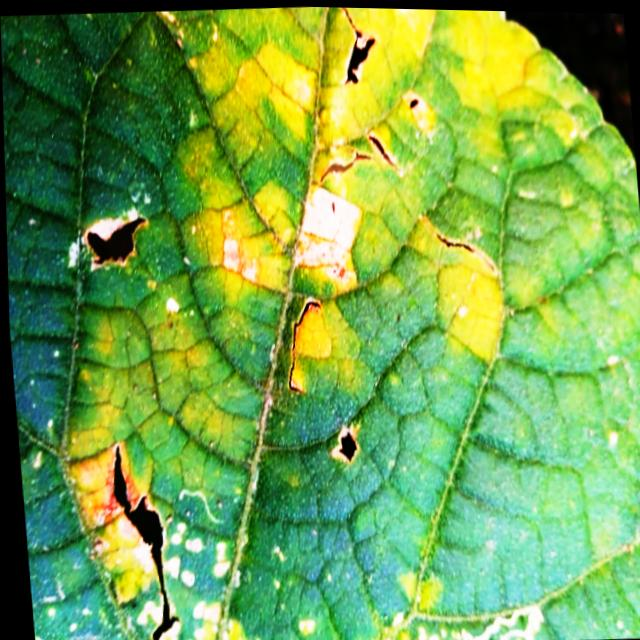Anthracnose: (99, 437, 184, 640), (78, 210, 155, 277), (339, 30, 382, 94), (335, 426, 360, 470)
